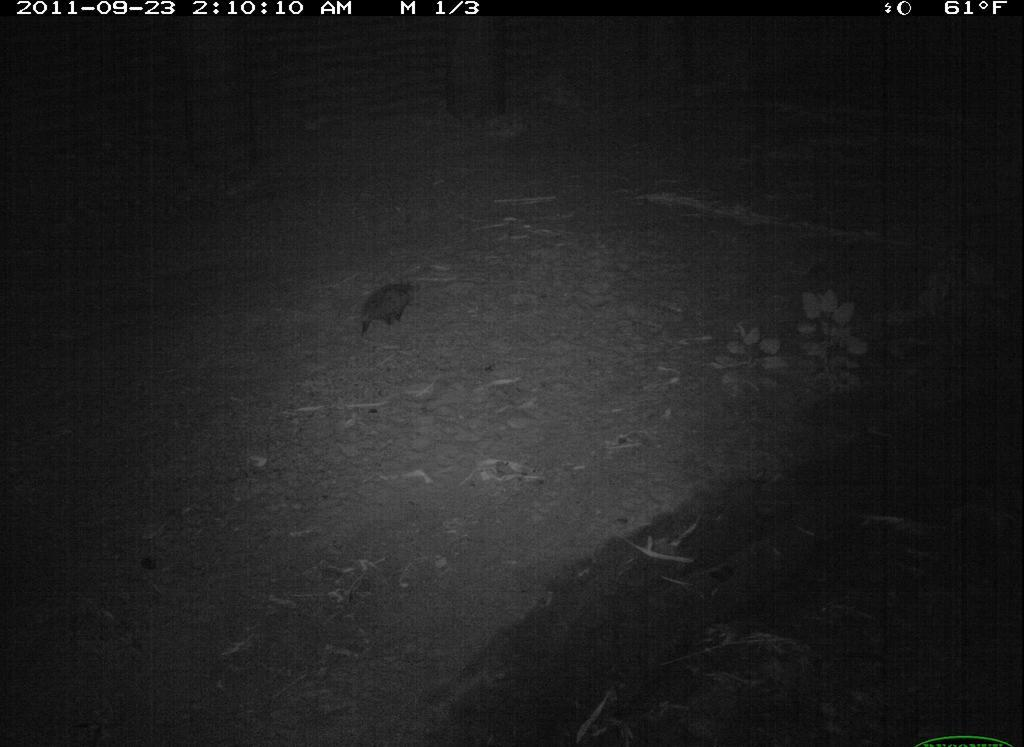opossum: (345, 276, 425, 346)
